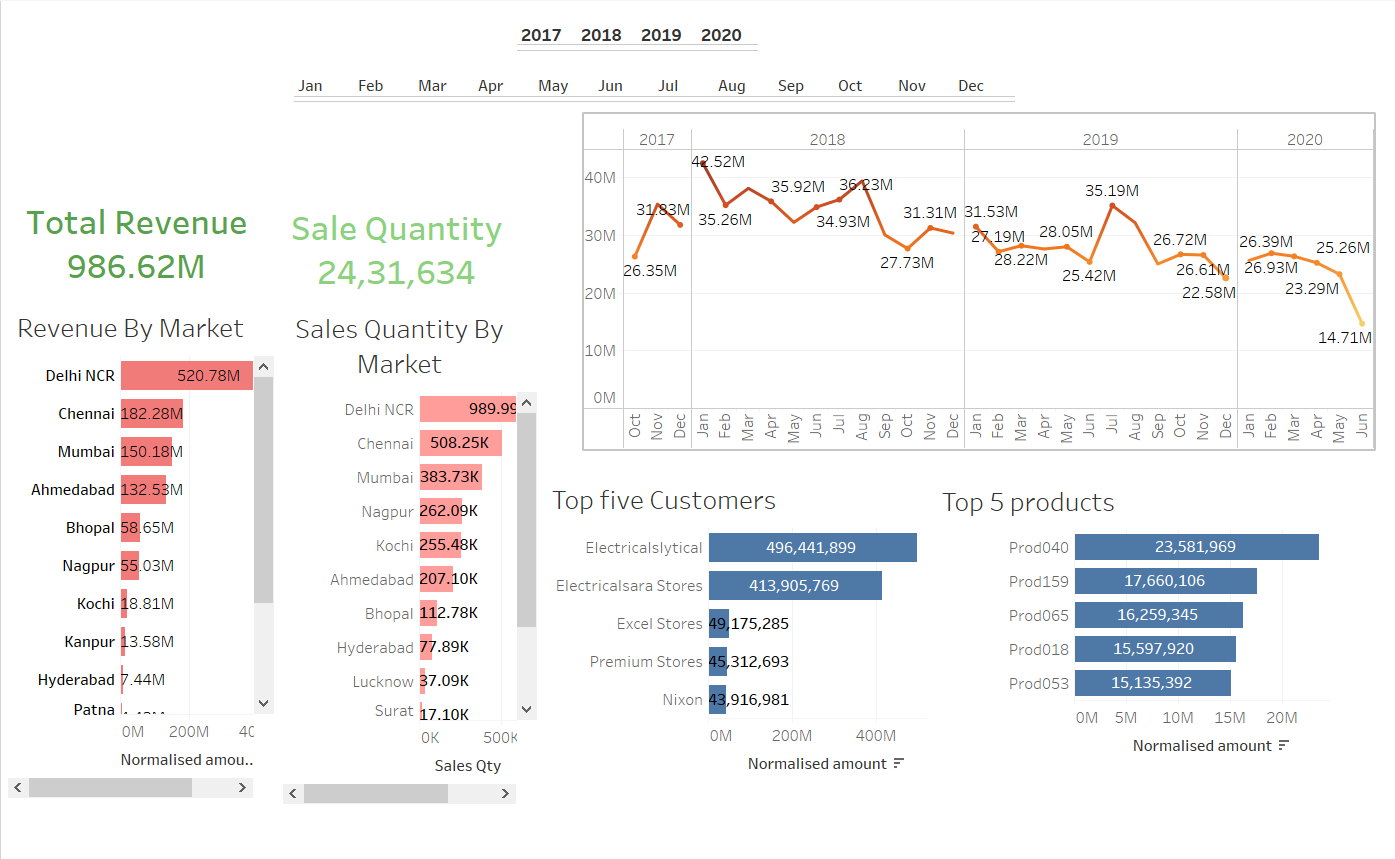

The dashboard page shown, as its layout file describes it:
{"tool":"tableau","page":{"name":"Dashboard 1","canvas":[1400,900],"ordinal":0},"visuals":[{"type":"worksheet","title":"Year","mark":"Automatic","cols":["cy_date"],"box":[516,8,466,63]},{"type":"worksheet","title":"Month","mark":"Automatic","cols":["cy_date"],"box":[293,59,809,78]},{"type":"worksheet","title":"Revenue By year","mark":"Automatic","rows":["Calculation_426716108239933440"],"cols":["cy_date","cy_date"],"box":[583,113,790,335]},{"type":"worksheet","title":"revenue","mark":"Automatic","box":[16,147,254,140]},{"type":"worksheet","title":"sales quantity","mark":"Automatic","box":[286,188,225,124]},{"type":"worksheet","title":"revenue by market","mark":"Automatic","rows":["markets_name"],"cols":["Calculation_426716108239933440"],"box":[7,305,266,492]},{"type":"worksheet","title":"sales quantity by market","mark":"Automatic","rows":["markets_name"],"cols":["sales_qty"],"box":[282.1,306,254.1,496.8]},{"type":"worksheet","title":"Top five Customers","mark":"Automatic","rows":["custmer_name"],"cols":["Calculation_426716108239933440"],"box":[547,477,379,318]},{"type":"worksheet","title":"Top 5 products","mark":"Automatic","rows":["product_code (products)"],"cols":["Calculation_426716108239933440"],"box":[937,479,393,297]}]}

Visuals, with their boxes on the page's 1400x900 design canvas (x1, y1, x2, y2). These are canvas units, not pixel positions in the 1395x859 screenshot, which may show the page scaled, cropped or inside an application window:
"Year" worksheet: region(516, 8, 982, 71)
"Month" worksheet: region(293, 59, 1102, 137)
"Revenue By year" worksheet: region(583, 113, 1373, 448)
"revenue" worksheet: region(16, 147, 270, 287)
"sales quantity" worksheet: region(286, 188, 511, 312)
"revenue by market" worksheet: region(7, 305, 273, 797)
"sales quantity by market" worksheet: region(282, 306, 536, 803)
"Top five Customers" worksheet: region(547, 477, 926, 795)
"Top 5 products" worksheet: region(937, 479, 1330, 776)
